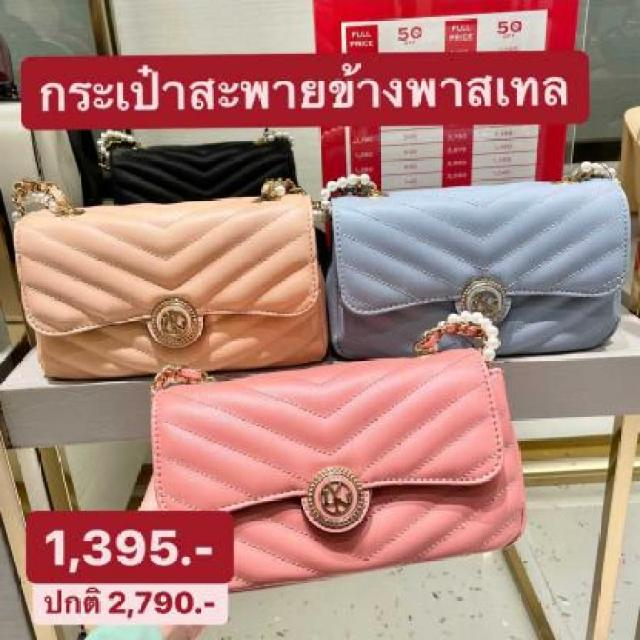Bag: (126, 315, 546, 596), (3, 160, 389, 418), (298, 149, 640, 377)
